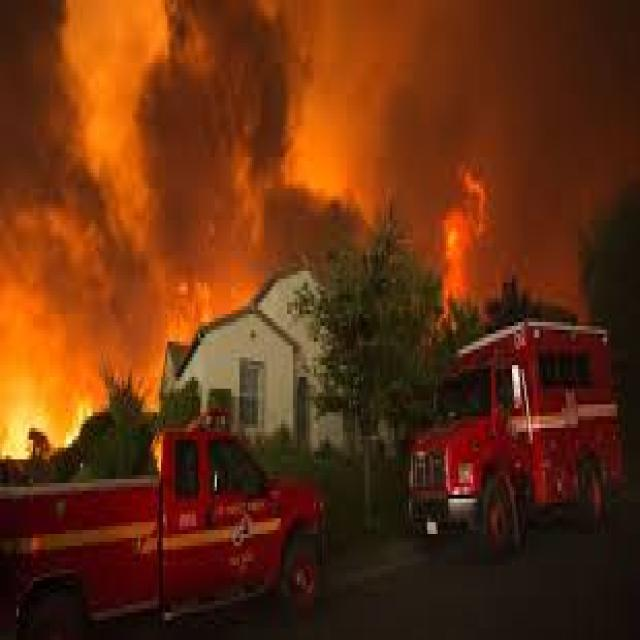Fire: (169, 0, 634, 346), (0, 0, 171, 470)
Smoke: (169, 0, 634, 287), (0, 3, 169, 339)
